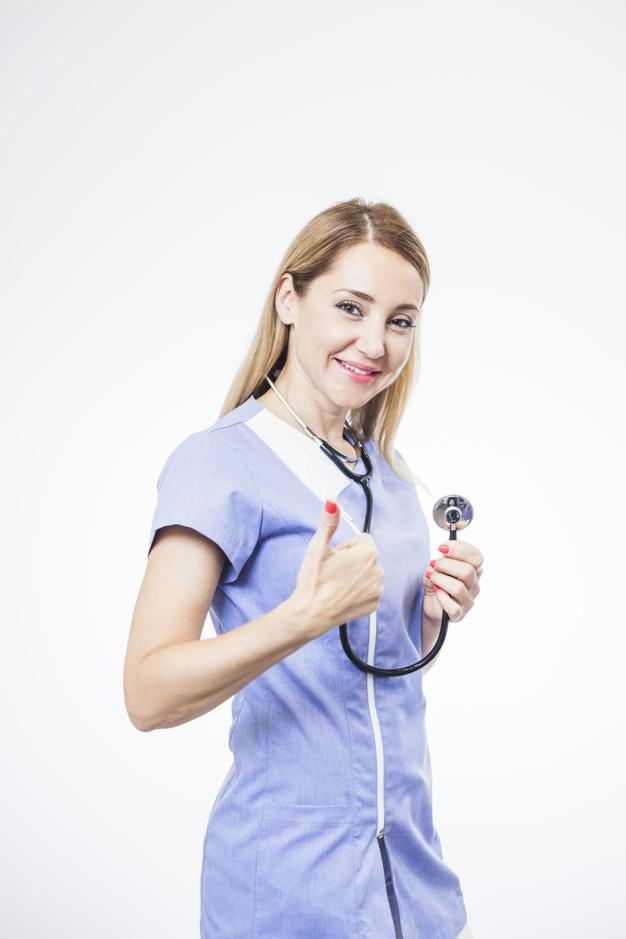thumbsup: (319, 499, 384, 622)
